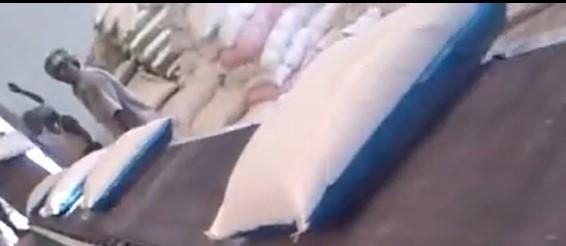rice-bag: (205, 3, 505, 240), (81, 118, 172, 211), (40, 149, 105, 215), (25, 169, 65, 215)
